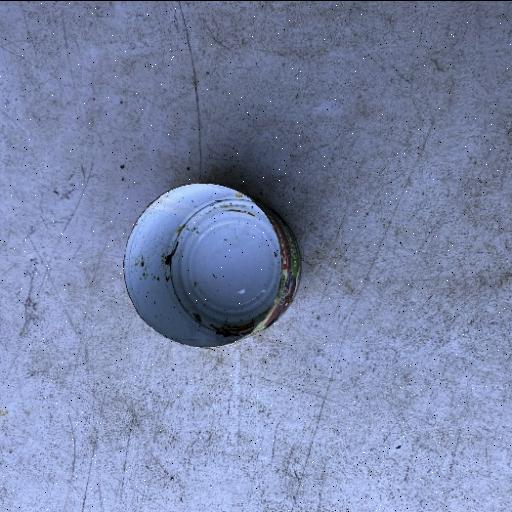Metal: (121, 181, 302, 349)
